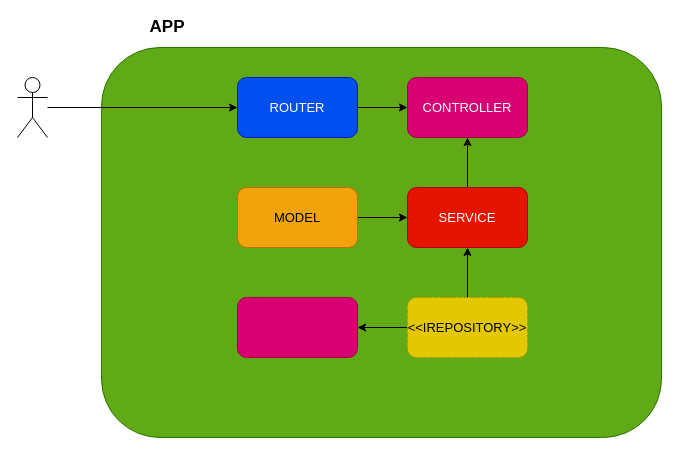
This 679x455 diagram has some shape labels left out. The shapes that lost their labels are listed below. From the top down, each one's centre as x and y in pixels, then its label:
At point (32, 107): "Client".
At point (297, 327): "REPOSITORY".
